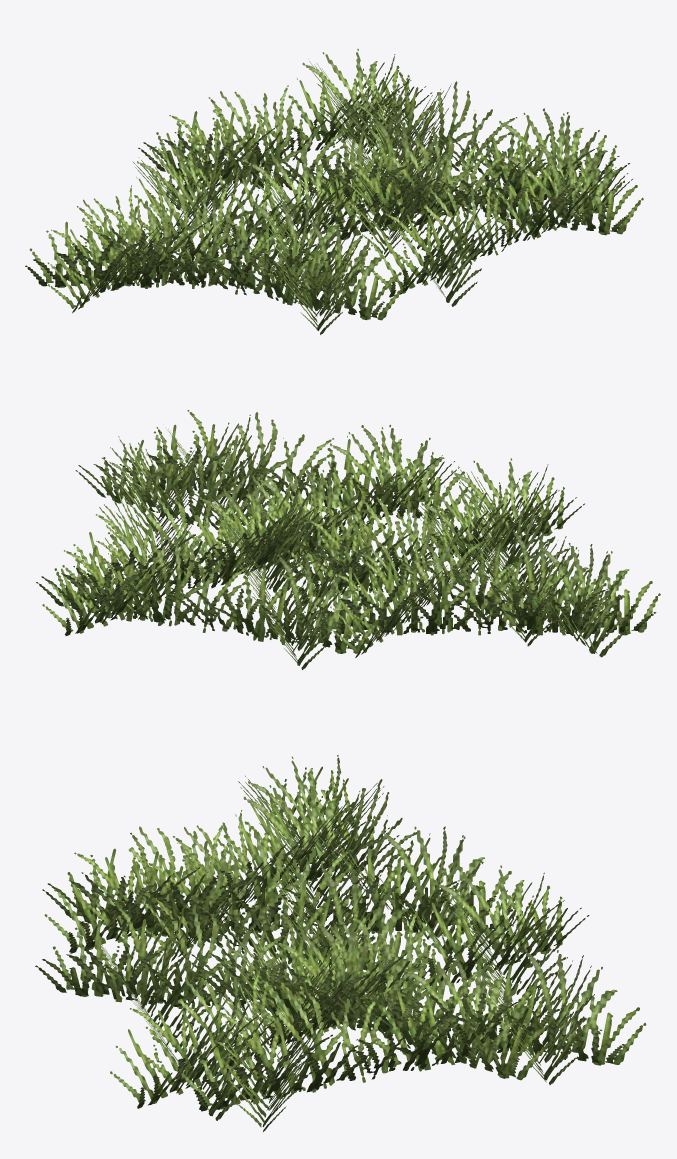
The model's file is grass_sm_b.glb.
3 views of the same model, one above another, from view 1: azimuth 30°, elevation 25°; view 2: azimuth 150°, elevation 25°; view 3: azimuth 270°, elevation 25° (orthographic). The views are drawn at different scales.
Visible parts, largest first — view 1: grass_sm_b; view 2: grass_sm_b; view 3: grass_sm_b.
Boxes of the visible parts, x1,y1,x2,y2 form: grass_sm_b: [25, 48, 643, 334]; grass_sm_b: [36, 410, 660, 669]; grass_sm_b: [35, 755, 646, 1131].
Size of the model in its own units: 11.5 by 1.51 by 9.18.
Materials: 1 (1 with a texture image).
